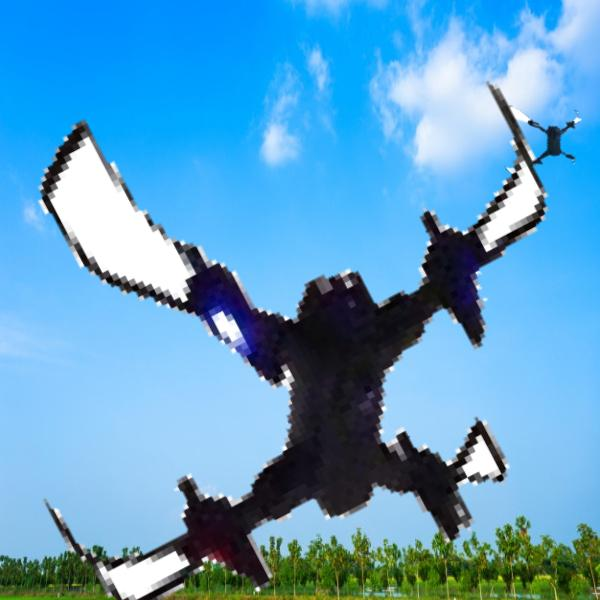drone: (495, 98, 586, 189)
